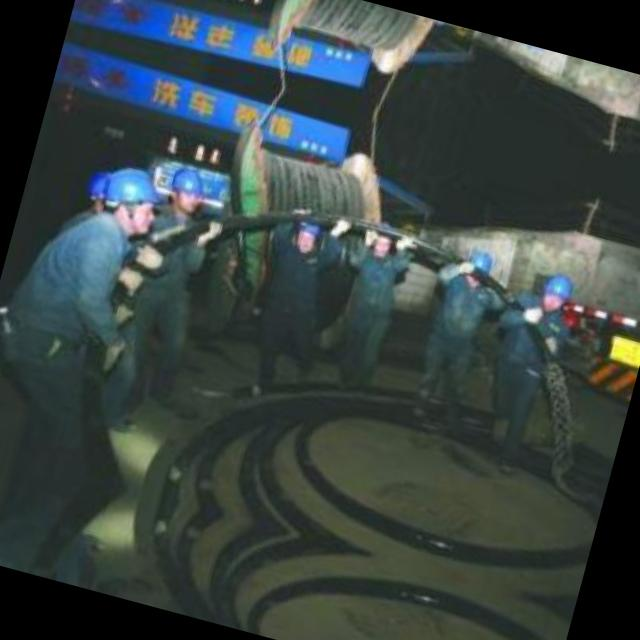helmet: (80, 154, 164, 238), (165, 158, 215, 218), (534, 264, 580, 318), (460, 243, 496, 287)
